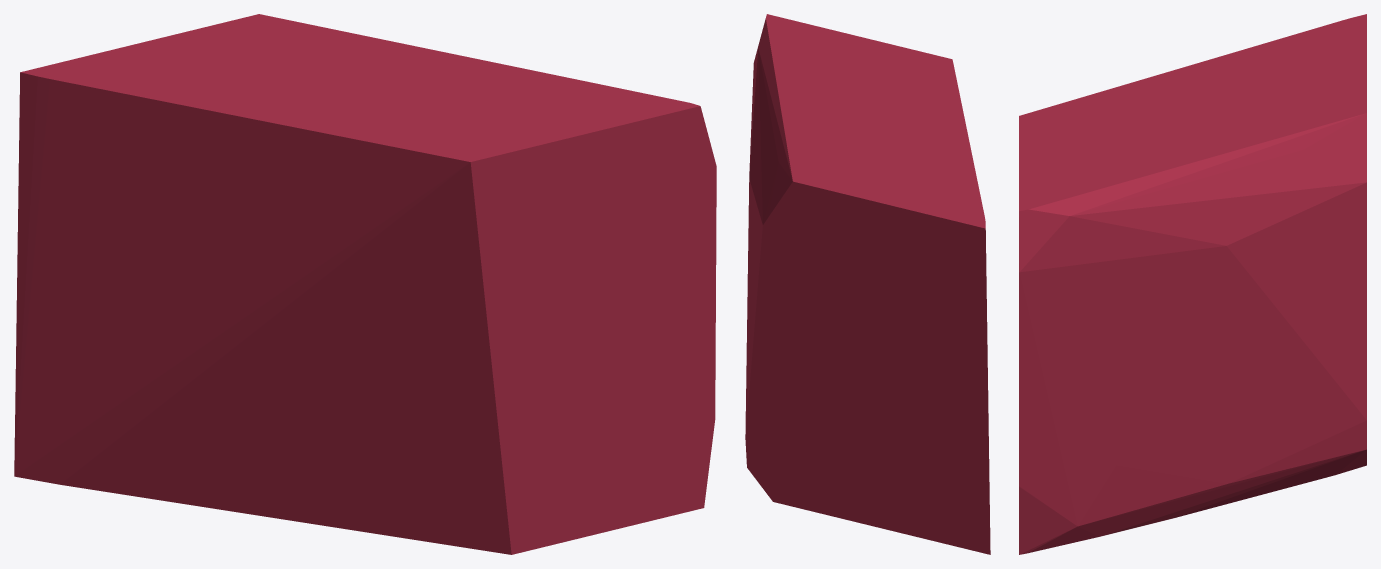
The picture shows the model from 3 angles, left to right: view 1: azimuth 30°, elevation 25°; view 2: azimuth 150°, elevation 25°; view 3: azimuth 270°, elevation 25°; orthographic projection. The views are drawn at different scales.
Size of the model in its own units: 0.0197 by 0.0153 by 0.014.
